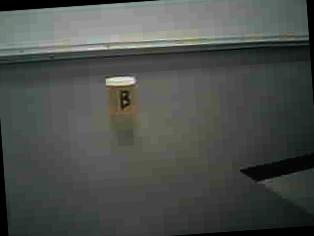Bottle B: (99, 69, 150, 130)
